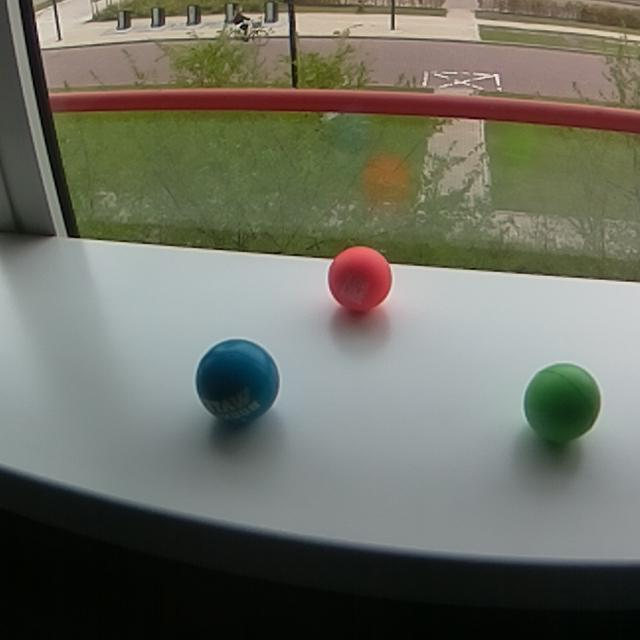ball: (192, 337, 282, 429), (522, 359, 602, 447), (324, 243, 395, 315)
